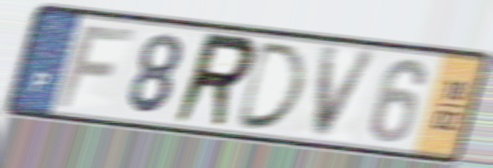6: (367, 56, 427, 145)
8: (127, 32, 185, 117)
D: (231, 39, 311, 133)
F: (53, 23, 139, 110)
R: (167, 29, 260, 131)
V: (310, 46, 383, 141)
